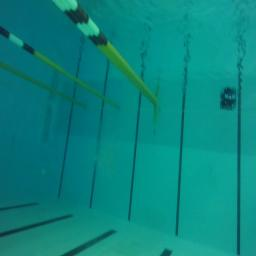front: (218, 86, 237, 111)
